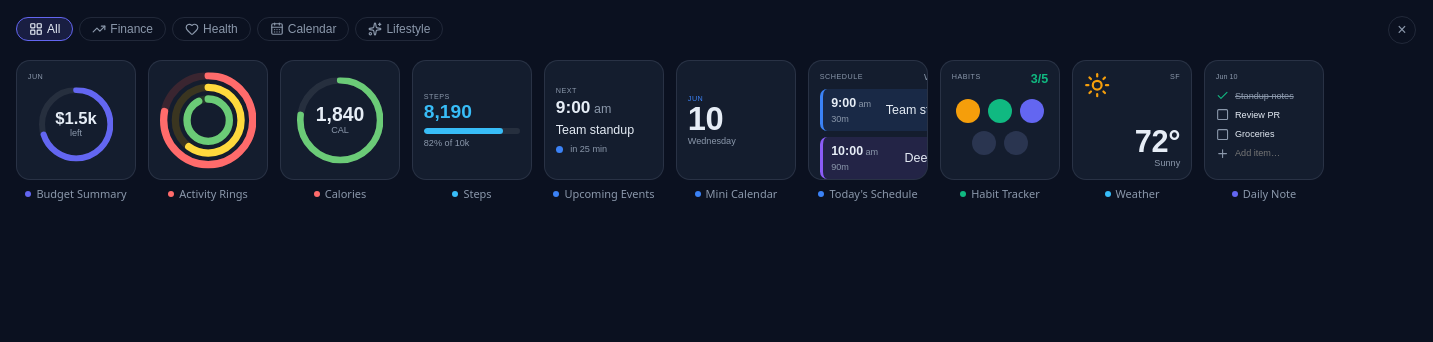
Test: WidgetCarousel › clicking a tile transitions to size-picker for that widget
Click the button with aria-label "Budget Summary": coordinates (76, 120) [16, 60, 136, 180]
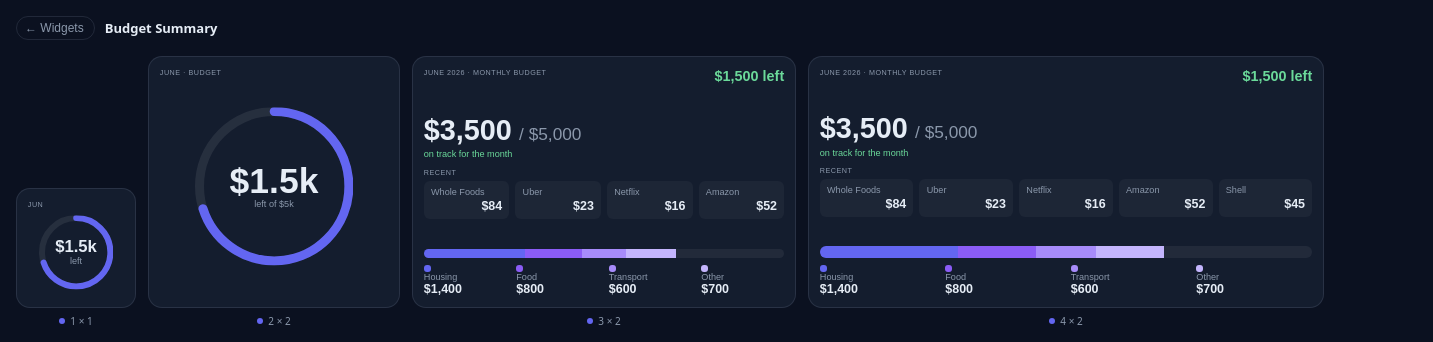
Expected: the text "Budget Summary" is shown, [105, 19, 218, 37]
Now the button "← Widgets" is shown, box [16, 16, 95, 40]
Now the text "Activity Rings" is gone
